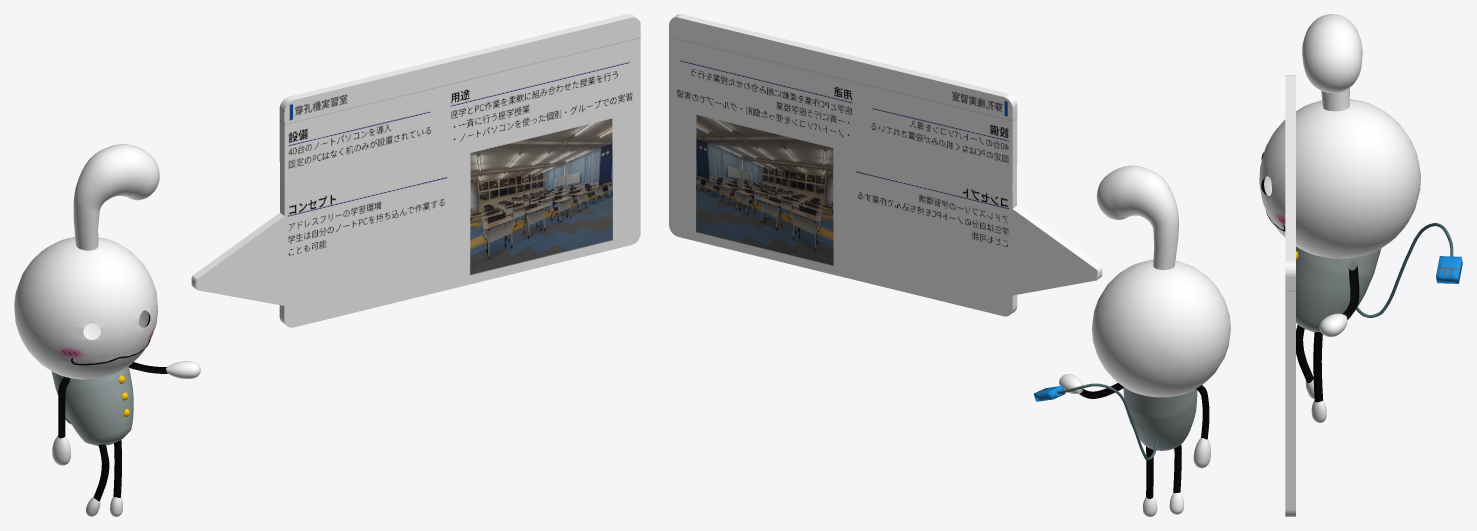
The model's file is co_creation.glb.
3 renders of one model, left to right at view 1: azimuth 30°, elevation 25°; view 2: azimuth 150°, elevation 25°; view 3: azimuth 270°, elevation 25°, orthographic. The views are drawn at different scales.
Parts seen in each view (by area): view 1: 吹き出し（画像）, 頭, 吹き出し（角）, 触覚, 胴; view 2: 吹き出し（画像）, 頭, 吹き出し（角）, 触覚, 胴; view 3: 頭, 吹き出し（画像）, 触覚, 胴, マウス, 尻尾, 左脚, 左拳, 右脚, 左腕, 左足.
Part boxes in pixels (left/top/right/bottom): 吹き出し（画像）: left=279, top=14, right=640, bottom=327; 頭: left=14, top=237, right=158, bottom=379; 吹き出し（角）: left=191, top=213, right=284, bottom=305; 触覚: left=73, top=144, right=159, bottom=250; 胴: left=51, top=366, right=133, bottom=445; 吹き出し（画像）: left=669, top=14, right=1017, bottom=316; 頭: left=1092, top=259, right=1230, bottom=397; 吹き出し（角）: left=1012, top=205, right=1102, bottom=295; 触覚: left=1096, top=165, right=1178, bottom=269; 胴: left=1123, top=387, right=1197, bottom=450; 頭: left=1259, top=99, right=1420, bottom=258; 吹き出し（画像）: left=1285, top=75, right=1295, bottom=516; 触覚: left=1302, top=14, right=1362, bottom=111; 胴: left=1296, top=247, right=1380, bottom=332; マウス: left=1436, top=256, right=1462, bottom=283; 尻尾: left=1356, top=223, right=1453, bottom=317; 左脚: left=1313, top=332, right=1323, bottom=402; 左拳: left=1319, top=313, right=1347, bottom=336; 右脚: left=1296, top=325, right=1313, bottom=382; 左腕: left=1342, top=266, right=1359, bottom=319; 左足: left=1311, top=400, right=1326, bottom=422.
Size of the model in its own units: 24.01 by 15.01 by 6.36.
13 materials, 2 textured.
